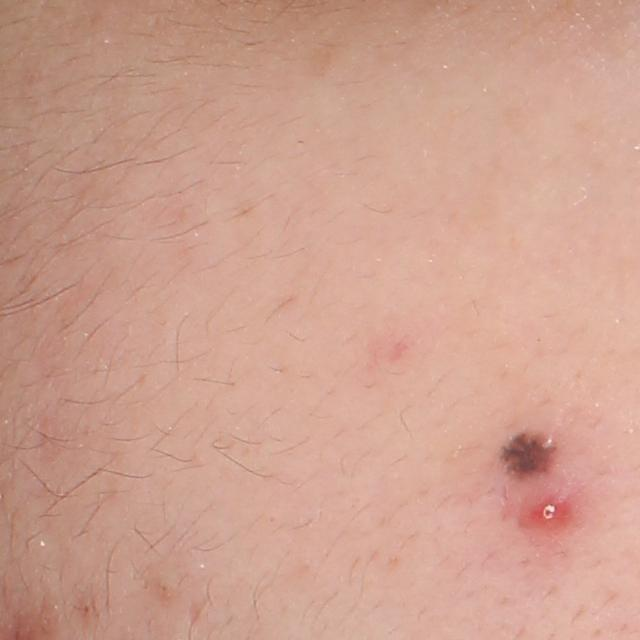nevus: (499, 428, 555, 477)
